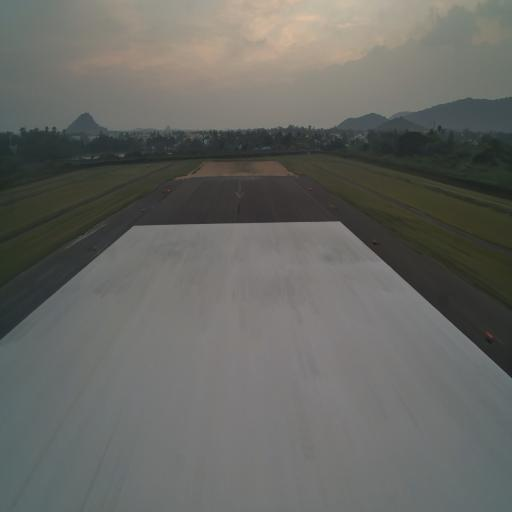on: (486, 325, 496, 343), (370, 236, 378, 246), (92, 242, 98, 254), (141, 207, 146, 212), (330, 203, 332, 209)
